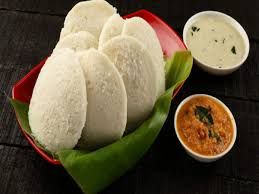idli: (36, 1, 164, 159)
